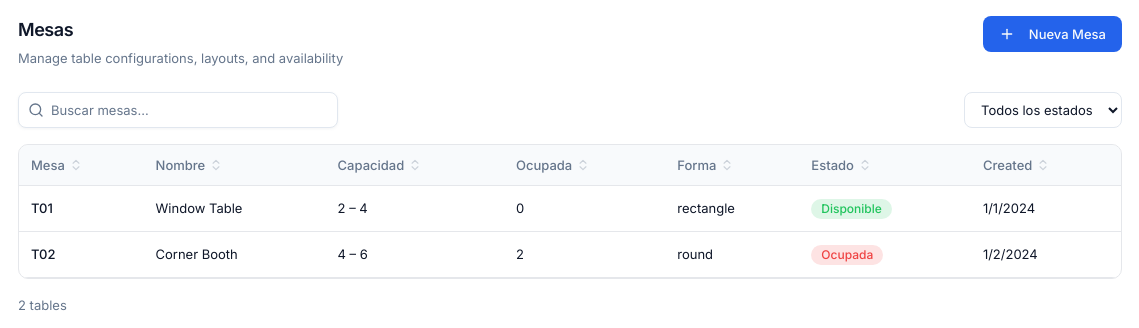
TablesPage (top-level) › filters tables by search
Expected: the link "T01" is shown, 31,200 -> 53,216
Step 1. Type "T02" into the field named "Search tables" → (178, 110), box 18,92 -> 338,128
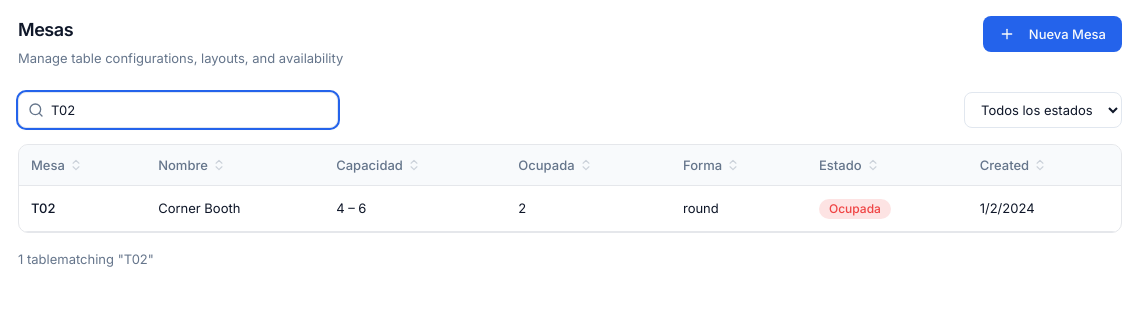
Now the link "T02" is shown, box 31,200 -> 56,216
Now the link "T01" is gone
